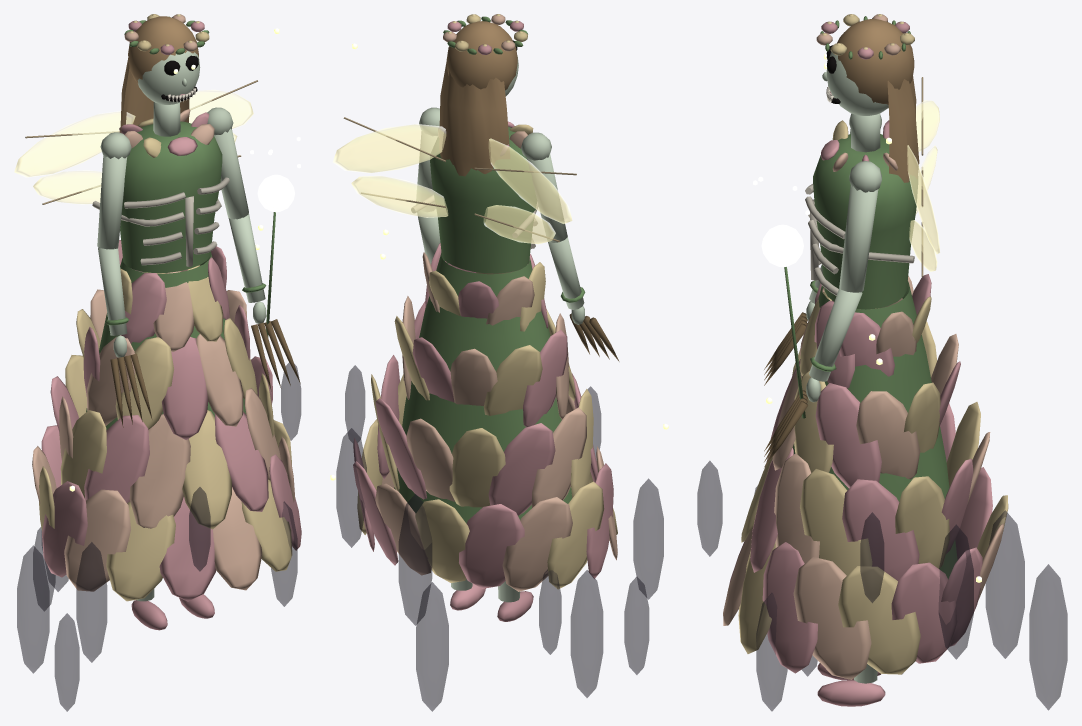
The model's file is bloom_fairy.glb.
3 views of the same model, side by side, from view 1: azimuth 30°, elevation 25°; view 2: azimuth 150°, elevation 25°; view 3: azimuth 270°, elevation 25° (orthographic). The views are drawn at different scales.
Visible parts, largest first — view 1: Fairy_Root_PetalRose, Fairy_Root_PetalPeach, Fairy_Root_PetalGold, Fairy_Root_HSmoke, Fairy_Root_Leaf, Fairy_Root_DragonflyWing, ArmA_FairySkin, ArmB_FairySkin, Head_HoneyHair, Fairy_Root_HBone, Head_FairySkin, Tail_PetalRose (+9 smaller); view 2: Fairy_Root_Leaf, Fairy_Root_HSmoke, Tail_PetalRose, Tail_PetalPeach, Fairy_Root_DragonflyWing, Tail_PetalGold, Head_HoneyHair, Fairy_Root_PetalGold, Fairy_Root_PetalRose, Fairy_Root_PetalPeach, ArmA_FairySkin, ArmB_FairySkin (+4 smaller); view 3: Fairy_Root_PetalRose, Fairy_Root_HSmoke, Fairy_Root_PetalGold, Fairy_Root_Leaf, Fairy_Root_PetalPeach, Tail_PetalGold, Tail_PetalRose, Head_HoneyHair, ArmB_FairySkin, Fairy_Root_DragonflyWing, Tail_PetalPeach, Head_FairySkin (+5 smaller).
Boxes of the visible parts, box(x1,y1,x2,y2) form: Fairy_Root_PetalRose: box(42, 112, 301, 601); Fairy_Root_PetalPeach: box(59, 109, 295, 591); Fairy_Root_PetalGold: box(38, 118, 292, 601); Fairy_Root_HSmoke: box(17, 363, 301, 711); Fairy_Root_Leaf: box(86, 121, 245, 429); Fairy_Root_DragonflyWing: box(14, 89, 253, 204); ArmA_FairySkin: box(97, 132, 131, 357); ArmB_FairySkin: box(207, 107, 266, 323); Head_HoneyHair: box(120, 16, 198, 132); Fairy_Root_HBone: box(92, 177, 229, 266); Head_FairySkin: box(137, 51, 200, 136); Tail_PetalRose: box(41, 240, 143, 487); Fairy_Root_Leaf: box(394, 126, 571, 523); Fairy_Root_HSmoke: box(336, 365, 663, 711); Tail_PetalRose: box(353, 281, 555, 588); Tail_PetalPeach: box(375, 252, 572, 591); Fairy_Root_DragonflyWing: box(332, 124, 572, 244); Tail_PetalGold: box(371, 270, 542, 582); Head_HoneyHair: box(439, 21, 517, 176); Fairy_Root_PetalGold: box(357, 124, 617, 589); Fairy_Root_PetalRose: box(353, 121, 613, 578); Fairy_Root_PetalPeach: box(382, 127, 617, 560); ArmA_FairySkin: box(521, 132, 584, 324); ArmB_FairySkin: box(416, 107, 440, 264); Fairy_Root_PetalRose: box(729, 120, 957, 673); Fairy_Root_HSmoke: box(697, 461, 1067, 711); Fairy_Root_PetalGold: box(738, 120, 920, 674); Fairy_Root_Leaf: box(792, 134, 957, 579); Fairy_Root_PetalPeach: box(723, 152, 920, 679); Tail_PetalGold: box(895, 296, 1008, 568); Tail_PetalRose: box(912, 274, 992, 646); Head_HoneyHair: box(837, 19, 919, 182); ArmB_FairySkin: box(806, 161, 881, 402); Fairy_Root_DragonflyWing: box(907, 100, 939, 271); Tail_PetalPeach: box(876, 276, 1003, 600); Head_FairySkin: box(822, 52, 888, 152).
Size of the model in its own units: 0.7587 by 1.69 by 0.7819.
